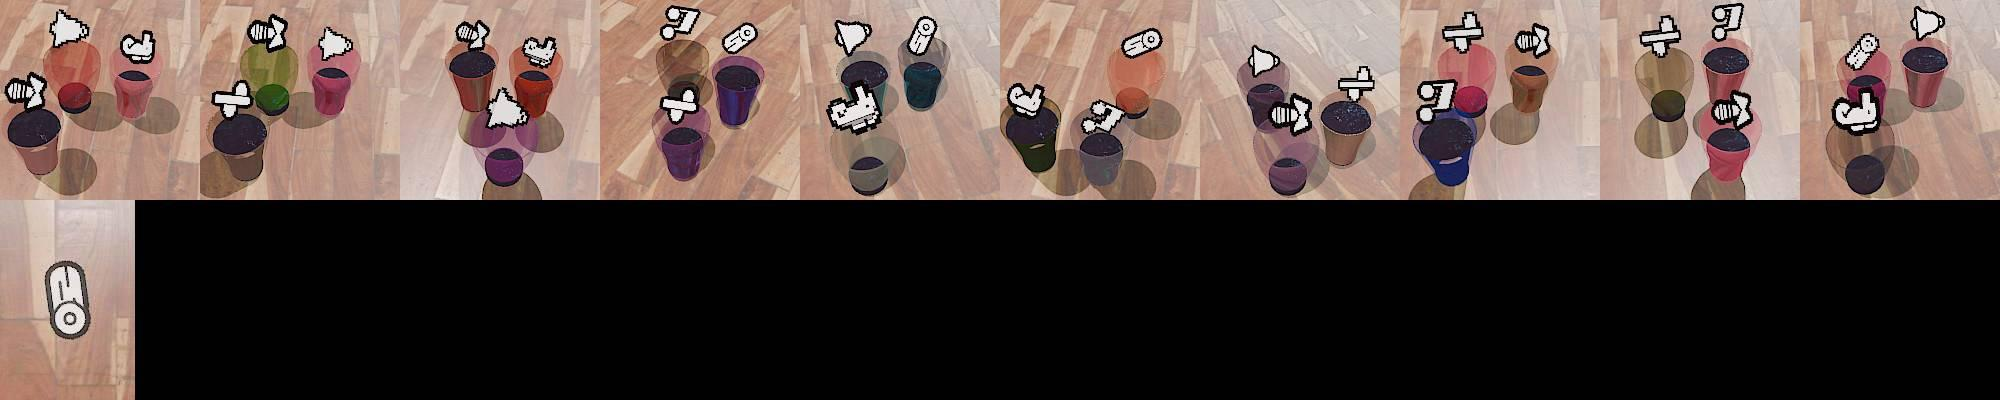icon: (43, 260, 92, 341), (1833, 80, 1883, 134), (827, 88, 879, 132), (1416, 76, 1459, 121), (485, 85, 531, 127), (1639, 14, 1682, 57), (1441, 10, 1485, 54), (1080, 97, 1129, 135), (1270, 93, 1314, 135), (1709, 89, 1754, 129), (47, 9, 91, 48), (4, 71, 47, 111), (212, 78, 254, 117), (246, 14, 288, 51), (658, 85, 700, 122), (1514, 22, 1552, 60), (1337, 64, 1376, 101), (661, 5, 703, 39), (833, 19, 871, 56), (1710, 3, 1746, 41), (1844, 32, 1879, 71), (1121, 25, 1162, 59), (316, 25, 352, 62), (721, 20, 759, 55), (907, 15, 939, 56), (1009, 82, 1046, 116), (120, 29, 156, 64), (522, 36, 559, 69), (1246, 45, 1281, 78), (1911, 6, 1945, 39), (455, 20, 490, 52)
